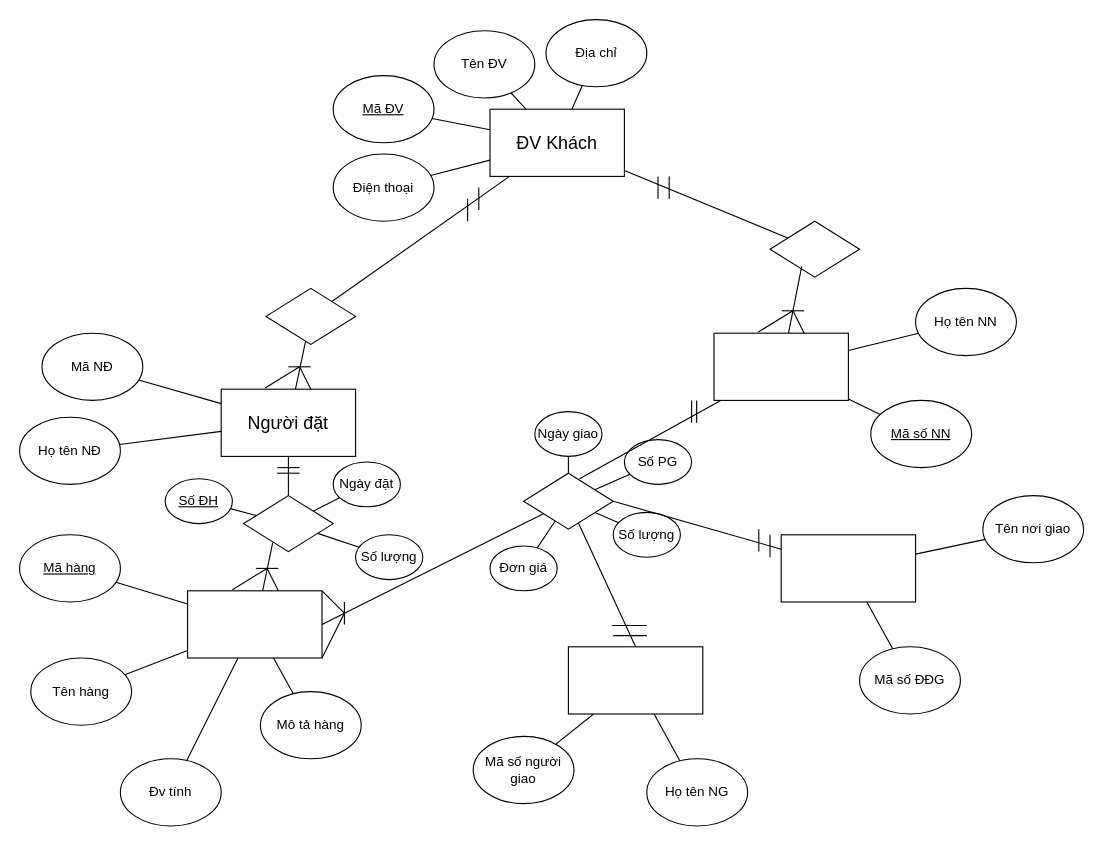
This 1103x846 diagram has some shape labels left out. The shapes that lost their labels are listed below. From the top down, each one's centre as x and y in pixels, then its label:
At [814,248]: "Thuộc 2".
At [310,315]: "Thuộc 1".
At [780,366]: "Người nhận".
At [567,500]: "Giao".
At [287,523]: "Đặt".
At [848,568]: "Nơi giao".
At [254,624]: "Hàng".
At [635,680]: "Người giao".
